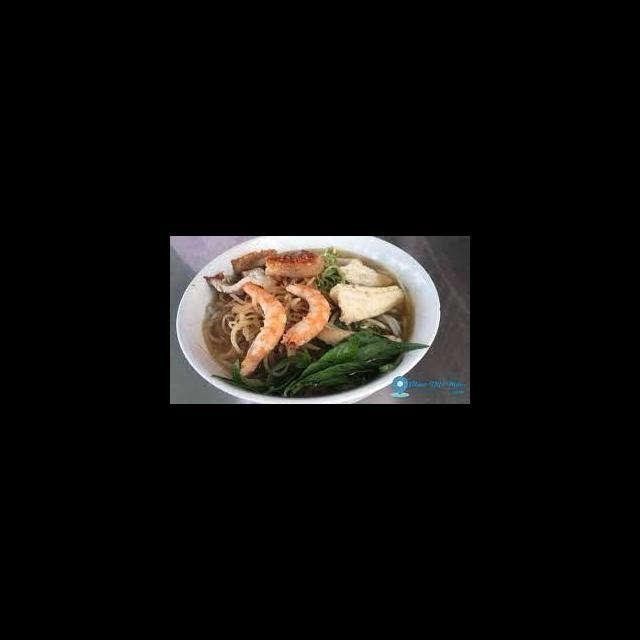ca: (327, 280, 408, 327), (333, 253, 395, 290)
rau ram: (231, 327, 432, 401)
thit heo quay: (199, 267, 278, 296), (262, 247, 325, 279)
tom: (236, 280, 289, 381), (278, 280, 333, 350)
